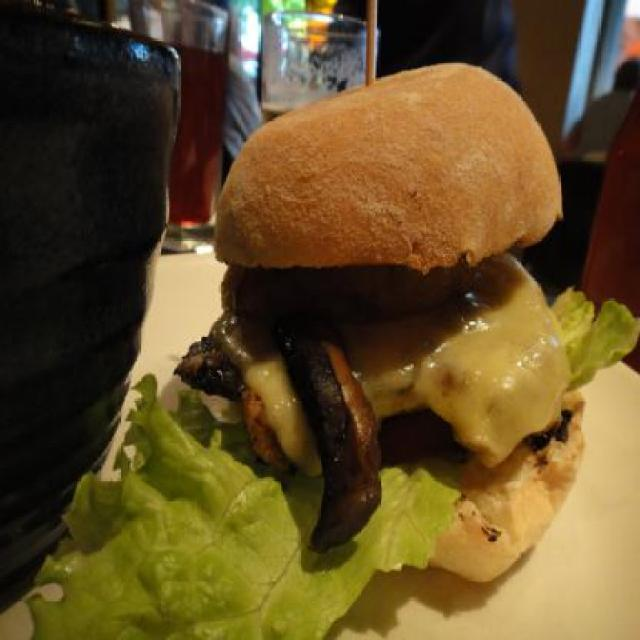Hamburger: (27, 61, 640, 640)
